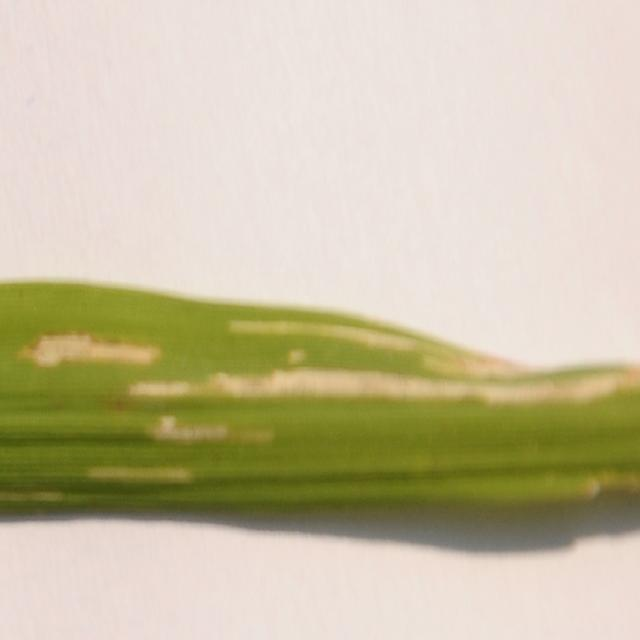leaf blight: (125, 349, 640, 408), (222, 308, 458, 362), (14, 328, 168, 375), (138, 412, 279, 452)
